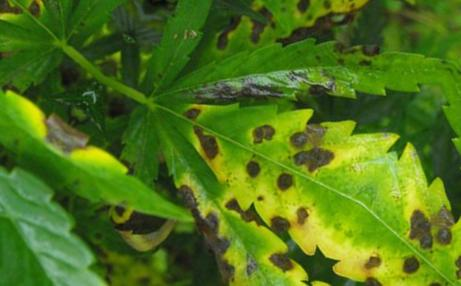Tomato leaf bacterial spot: (149, 11, 414, 264), (86, 124, 340, 286), (26, 106, 213, 278), (172, 0, 336, 47)
